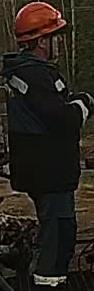gloves: (75, 90, 94, 116)
helmet: (12, 1, 67, 42)
vest: (3, 55, 85, 195)
